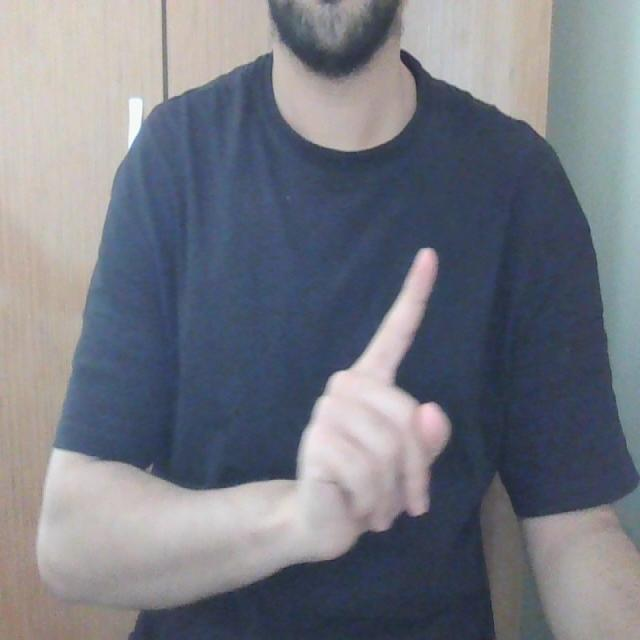Hayir: (297, 192, 453, 594)
